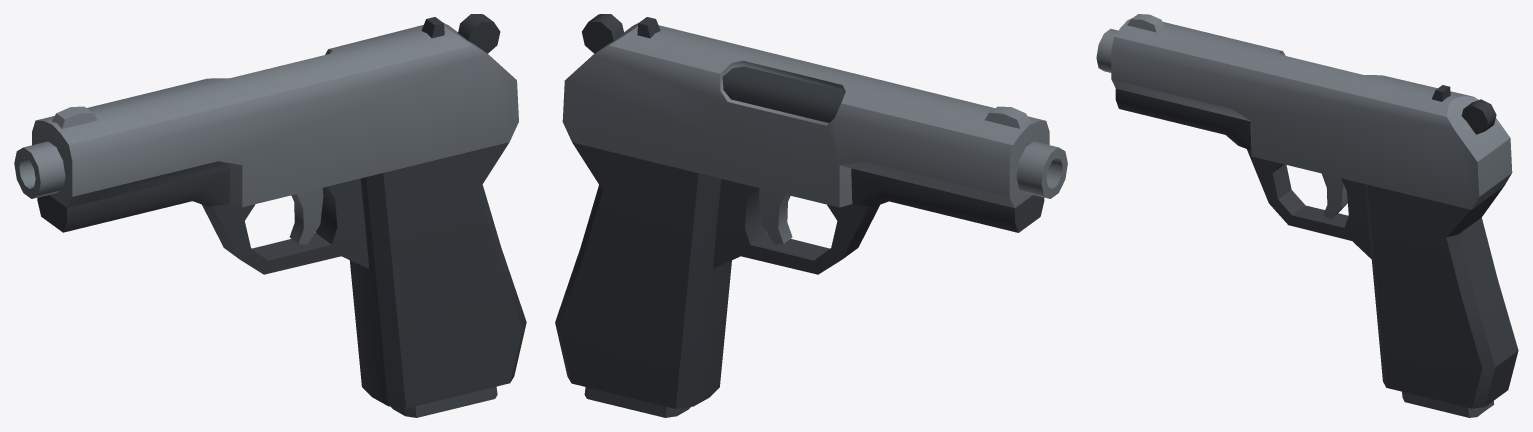
The model's file is gun_1.fbx.
The picture shows the model from 3 angles, left to right: view 1: azimuth 30°, elevation 25°; view 2: azimuth 150°, elevation 25°; view 3: azimuth 330°, elevation 25°; orthographic projection. The views are drawn at different scales.
Parts seen in each view (by area): view 1: 1; view 2: 1; view 3: 1.
Part boxes in pixels (x1,y1,x2,y2): 1: [14, 14, 526, 417]; 1: [555, 14, 1067, 417]; 1: [1096, 14, 1518, 417].
Bounding box in the file's own units: 40.48 × 30.21 × 5.79.
